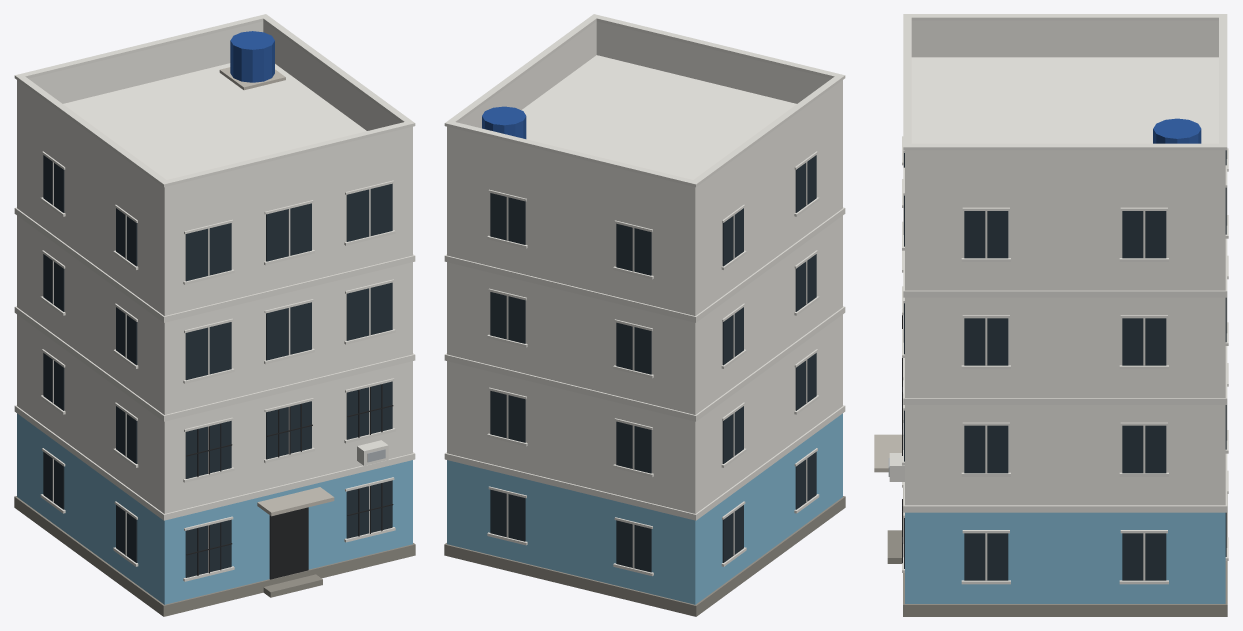
Rendered from BAY_F_Tower_K.glb.
The picture shows the model from 3 angles, left to right: view 1: azimuth 30°, elevation 25°; view 2: azimuth 150°, elevation 25°; view 3: azimuth 270°, elevation 25°; orthographic projection. The views are drawn at different scales.
Visible parts, largest first — view 1: BAY_F_Tower_K; view 2: BAY_F_Tower_K; view 3: BAY_F_Tower_K.
Part boxes in pixels (box(x1,y1,x2,y2)): BAY_F_Tower_K: box(14, 14, 415, 616); BAY_F_Tower_K: box(444, 14, 845, 616); BAY_F_Tower_K: box(874, 14, 1228, 616).
Size of the model in its own units: 7.24 by 11.8 by 8.07.
1 material, 1 textured.
